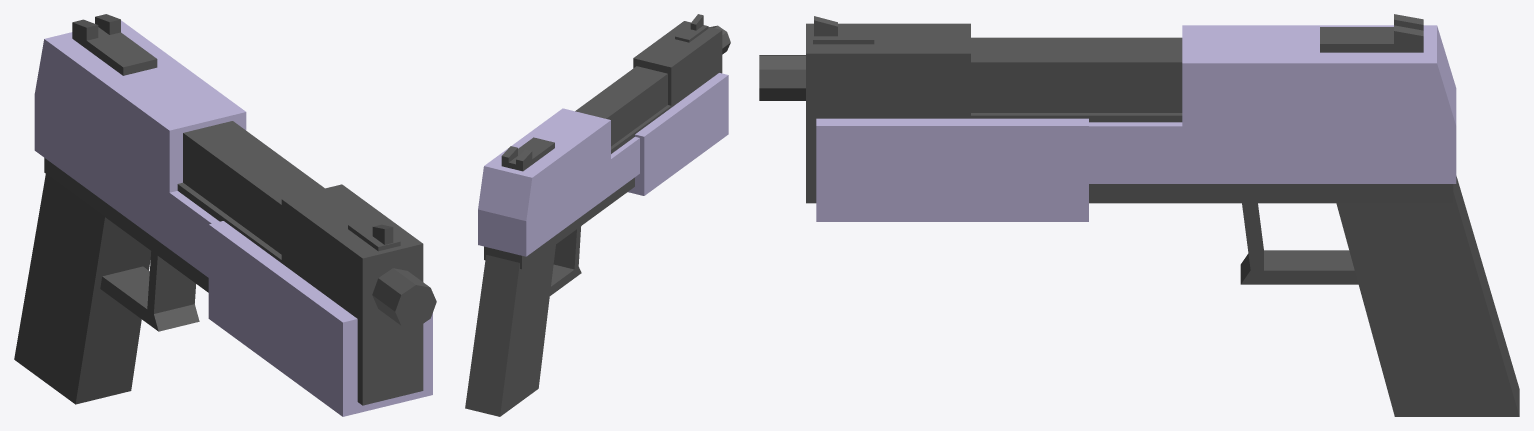
Rendered from Pistol.glb.
The picture shows the model from 3 angles, left to right: view 1: azimuth 30°, elevation 25°; view 2: azimuth 150°, elevation 25°; view 3: azimuth 270°, elevation 25°; orthographic projection. The views are drawn at different scales.
Visible parts, largest first — view 1: Gun, Culasse; view 2: Gun, Culasse; view 3: Gun, Culasse.
Boxes of the visible parts, box(x1,y1,x2,y2) form: Gun: box(14, 121, 436, 416); Culasse: box(34, 14, 246, 277); Gun: box(465, 14, 730, 416); Culasse: box(478, 108, 639, 256); Gun: box(759, 16, 1519, 416); Culasse: box(1089, 14, 1456, 183).
Size of the model in its own units: 0.0451 by 0.1809 by 0.3237.
